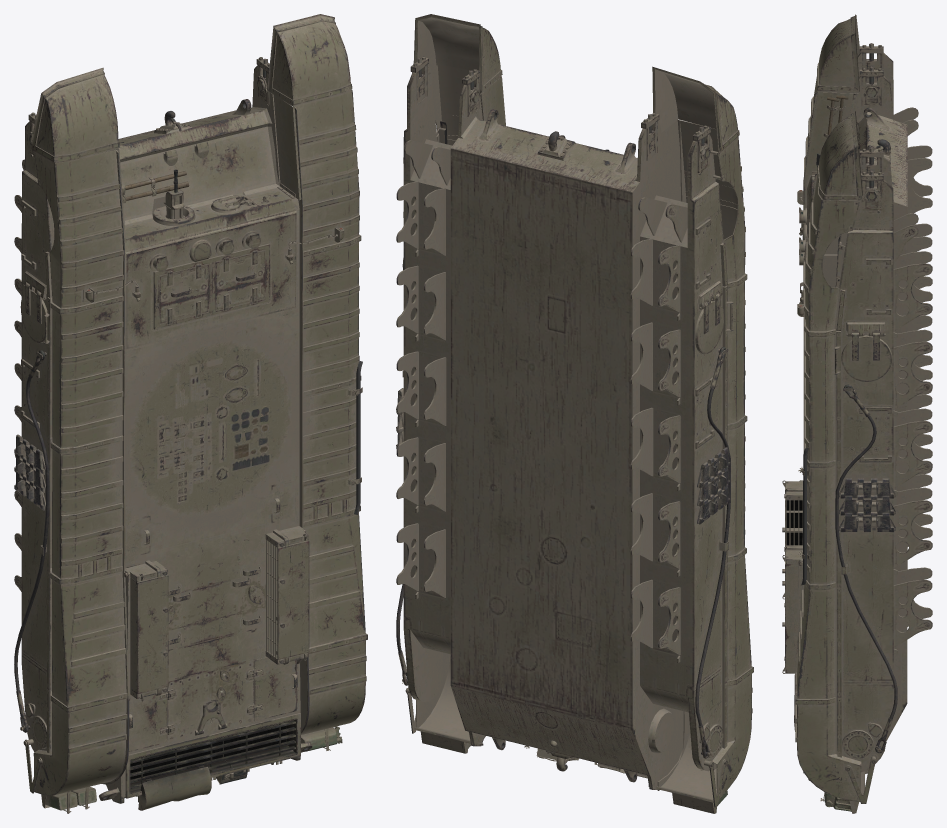
Rendered from Hull.glb.
3 renders of one model, left to right at view 1: azimuth 30°, elevation 25°; view 2: azimuth 150°, elevation 25°; view 3: azimuth 270°, elevation 25°, orthographic. The views are drawn at different scales.
Parts seen in each view (by area): view 1: set_0_group_0; view 2: set_0_group_0; view 3: set_0_group_0.
Boxes of the visible parts, <box> form: set_0_group_0: <box>14,14,367,813</box>; set_0_group_0: <box>396,14,753,813</box>; set_0_group_0: <box>782,14,932,813</box>.
Size of the model in its own units: 3.56 by 7.94 by 1.59.
Materials: 1 (1 with a texture image).
